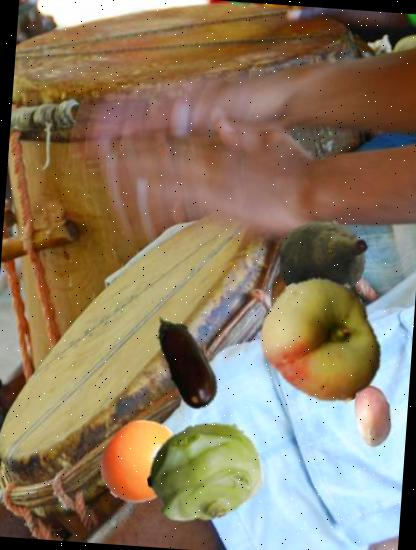Beetroot: (274, 209, 376, 311)
Eggplant: (128, 305, 240, 417)
Grapefruit: (94, 414, 187, 508)
Hazelnut: (338, 381, 406, 450)
Kiwi: (258, 238, 356, 336)
Kohlrabi: (142, 410, 266, 533)
Peach: (251, 272, 392, 412)
